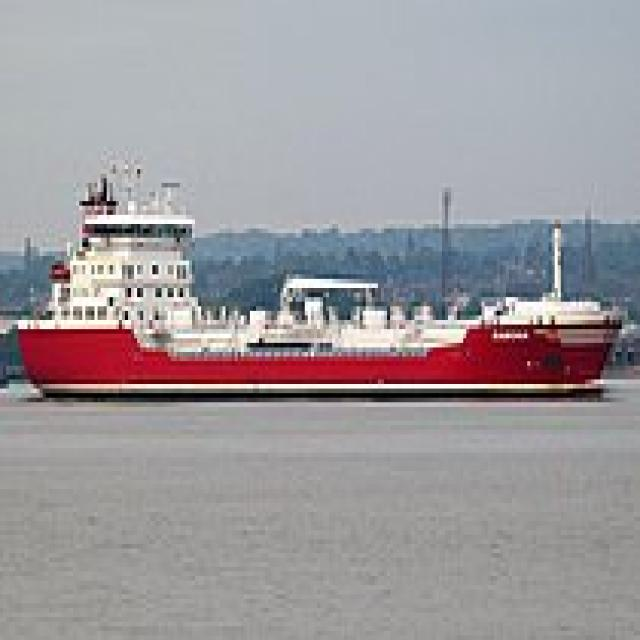Tanker: (9, 146, 625, 402)
